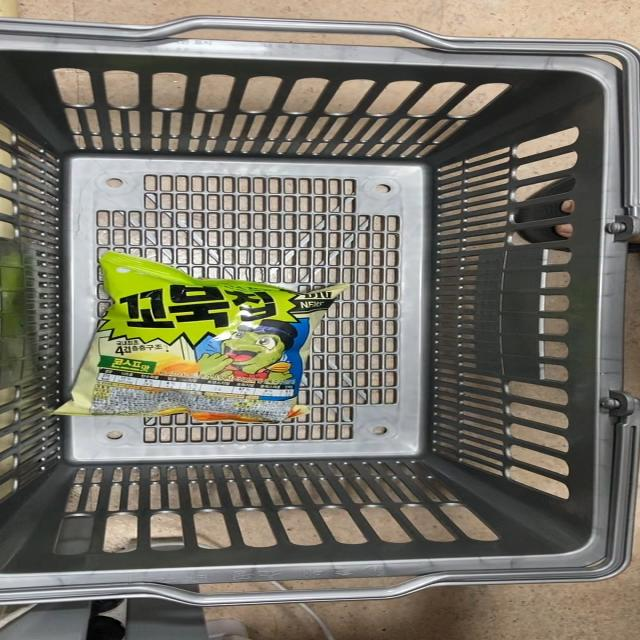ggobukchip: (57, 242, 327, 436)
